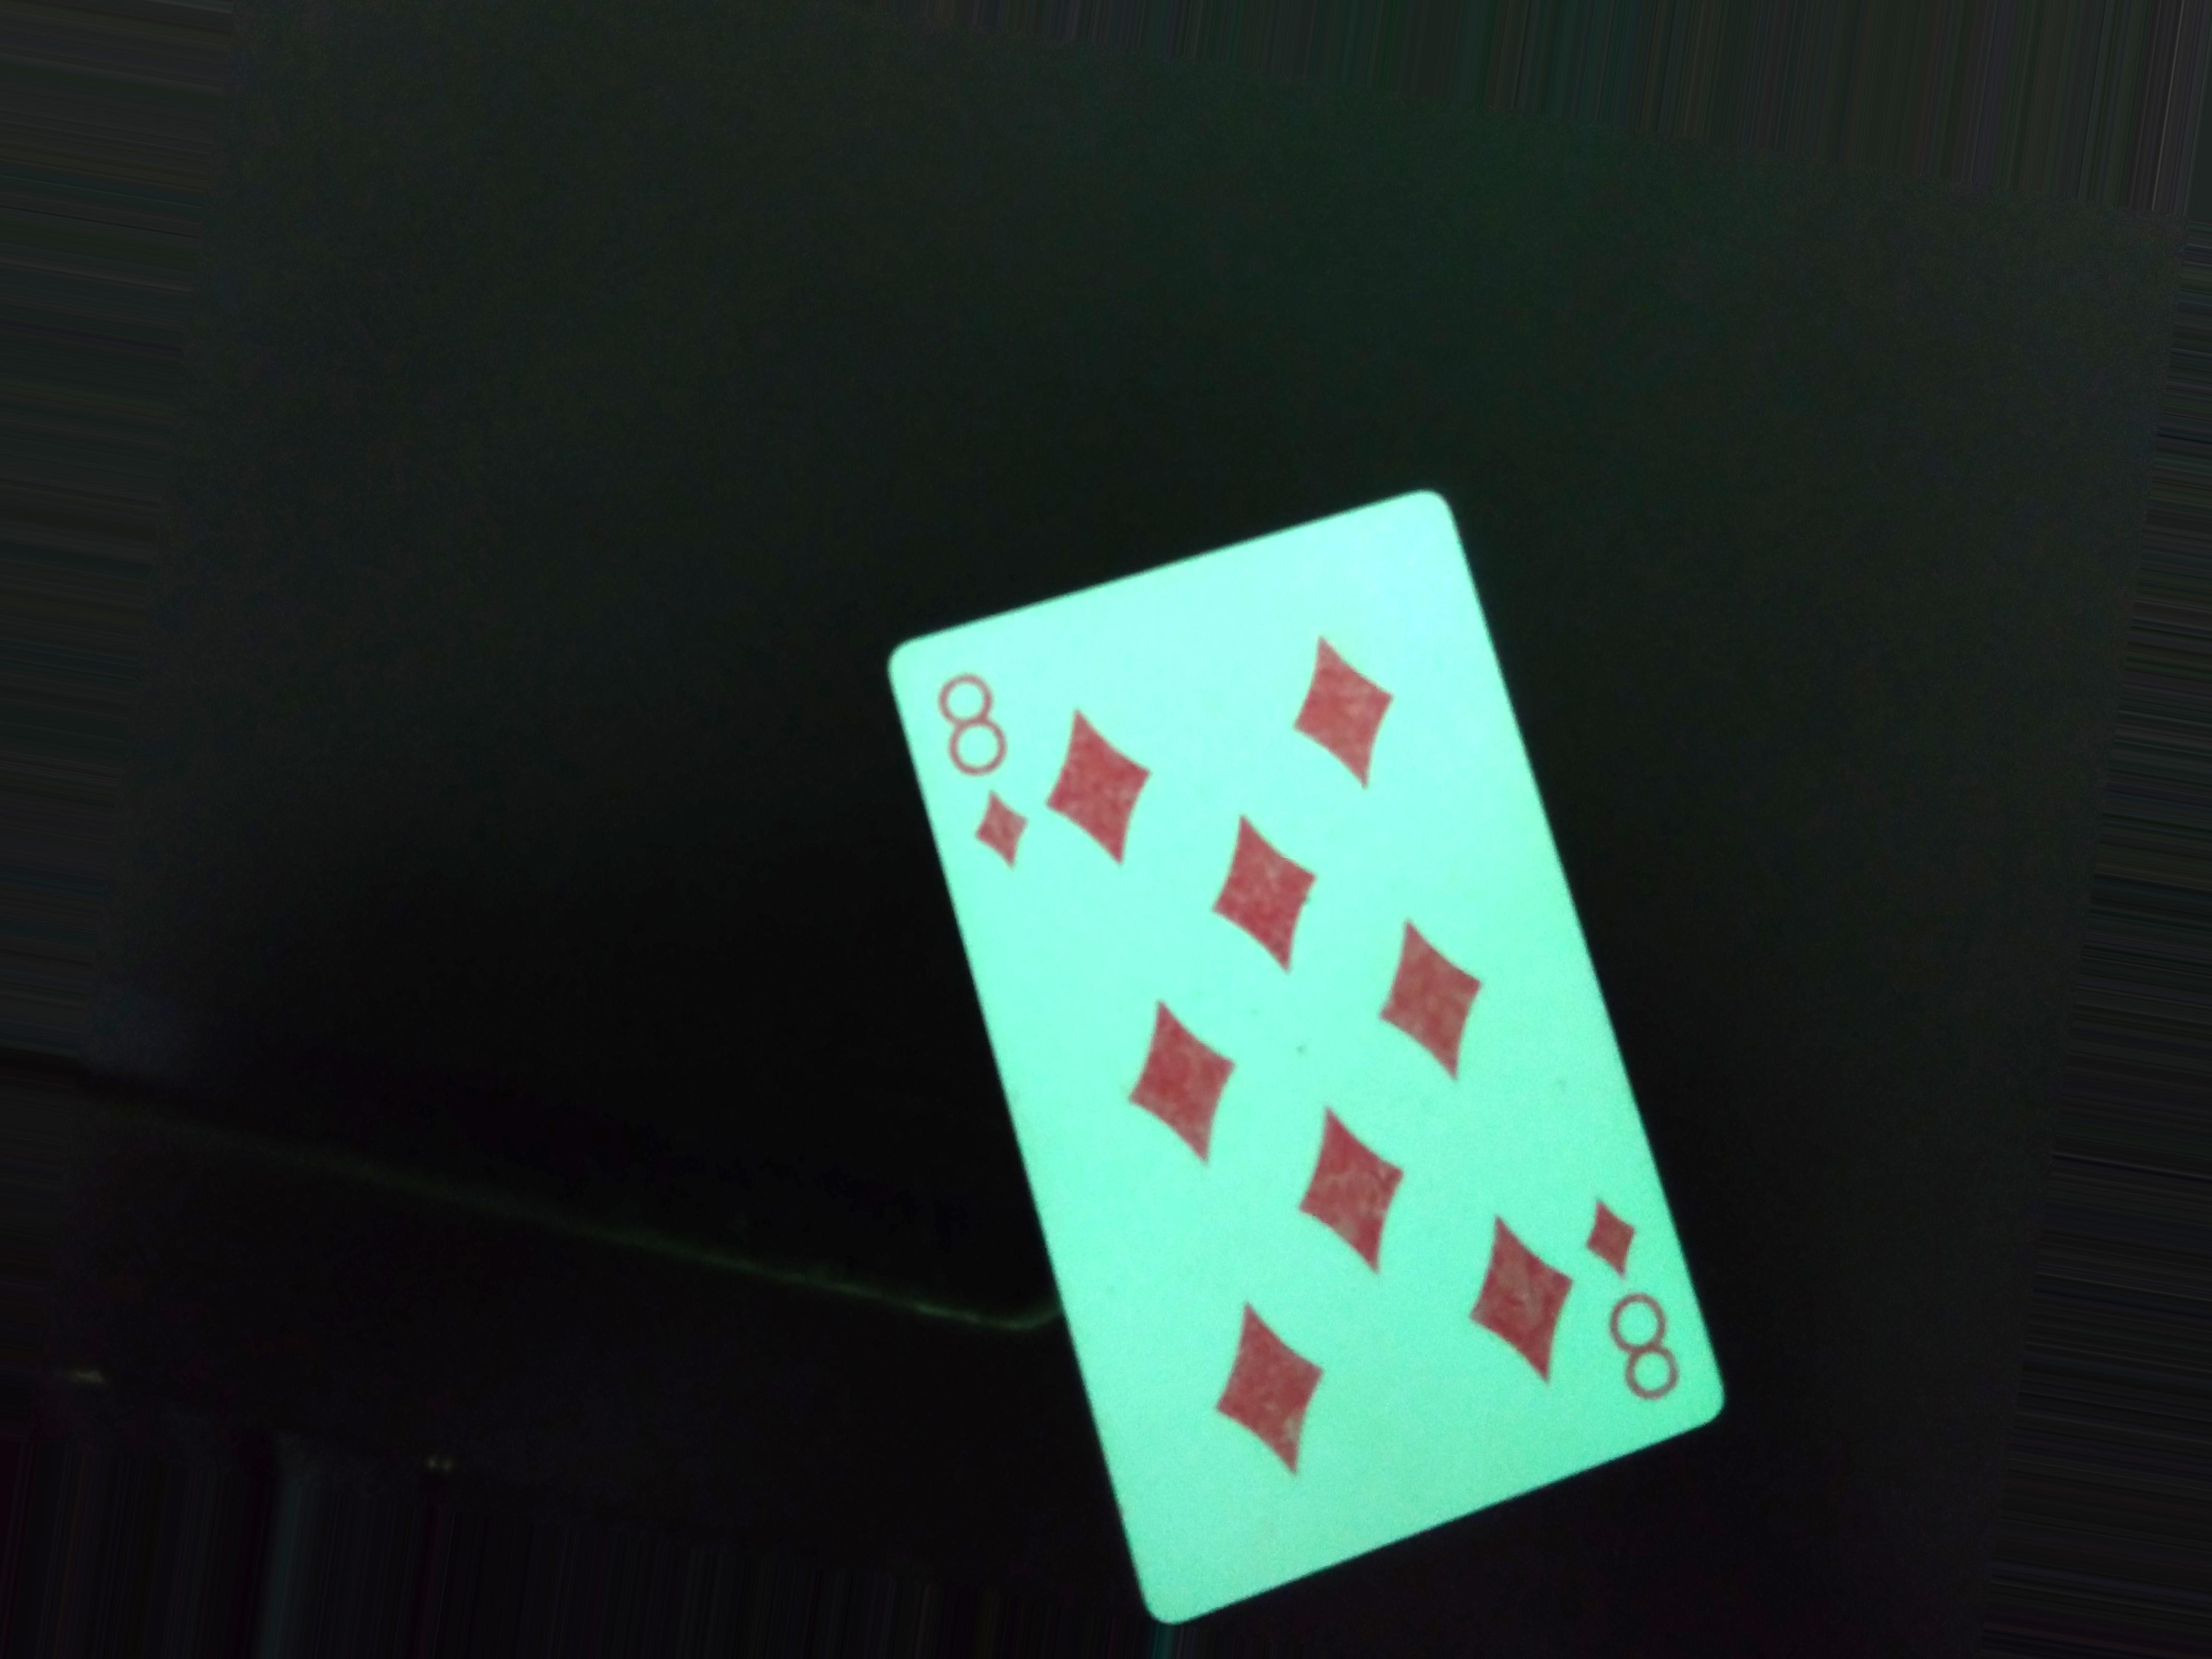8D: (927, 655, 1045, 932)
